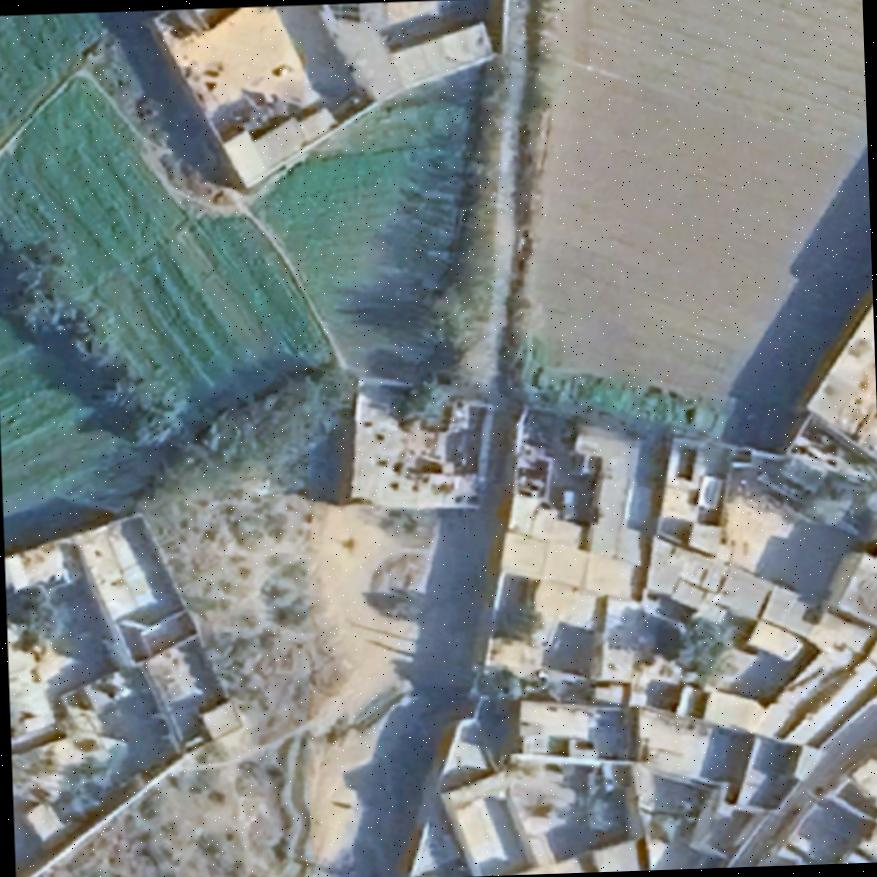Solarpanel: (324, 2, 366, 26)
